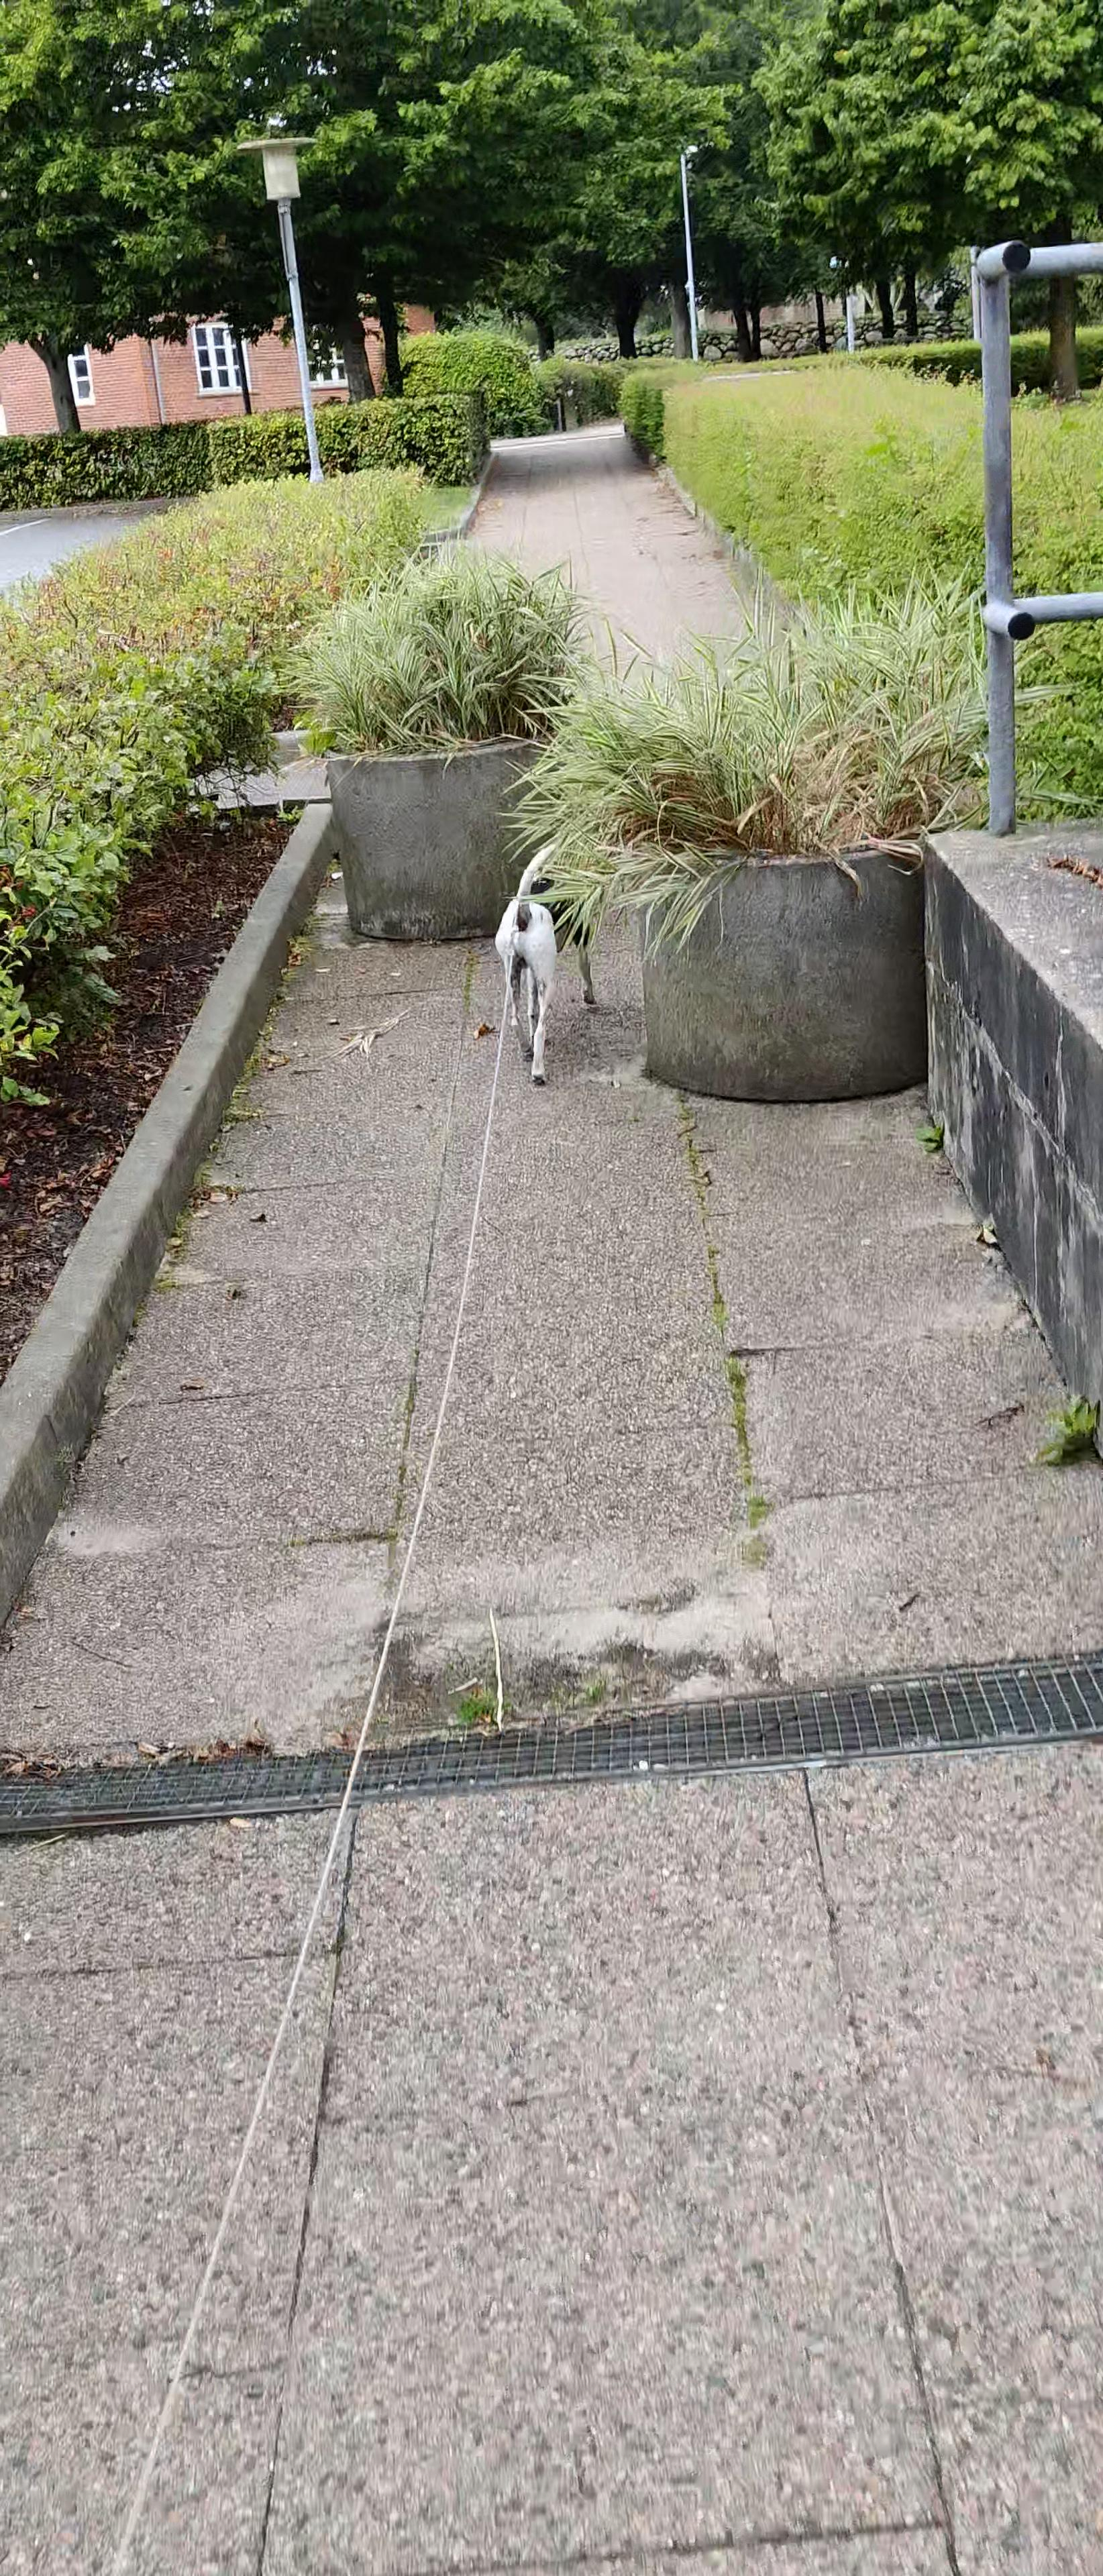Dog: (493, 841, 602, 1091)
